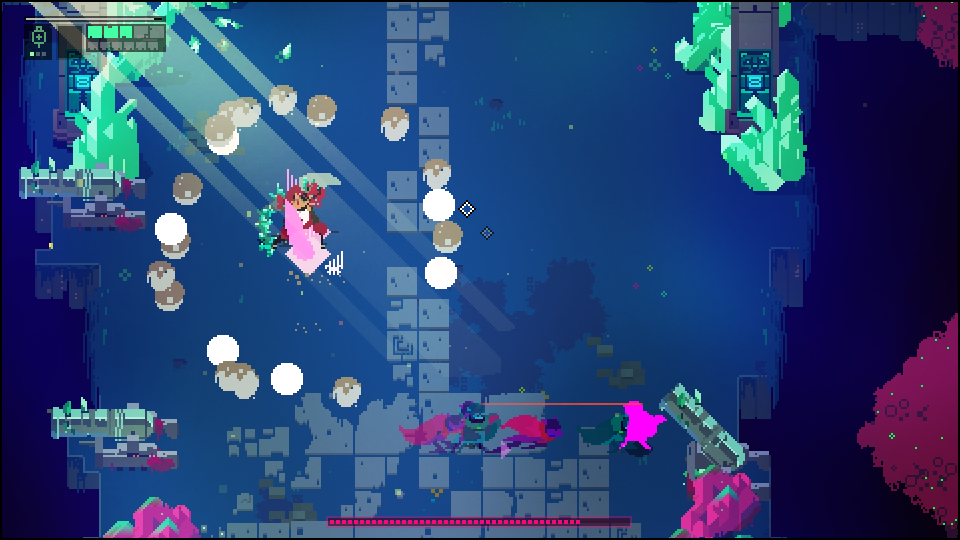hanged_crys: (283, 199, 319, 265)
hanged_man: (257, 169, 355, 262)
player: (615, 398, 666, 451)
